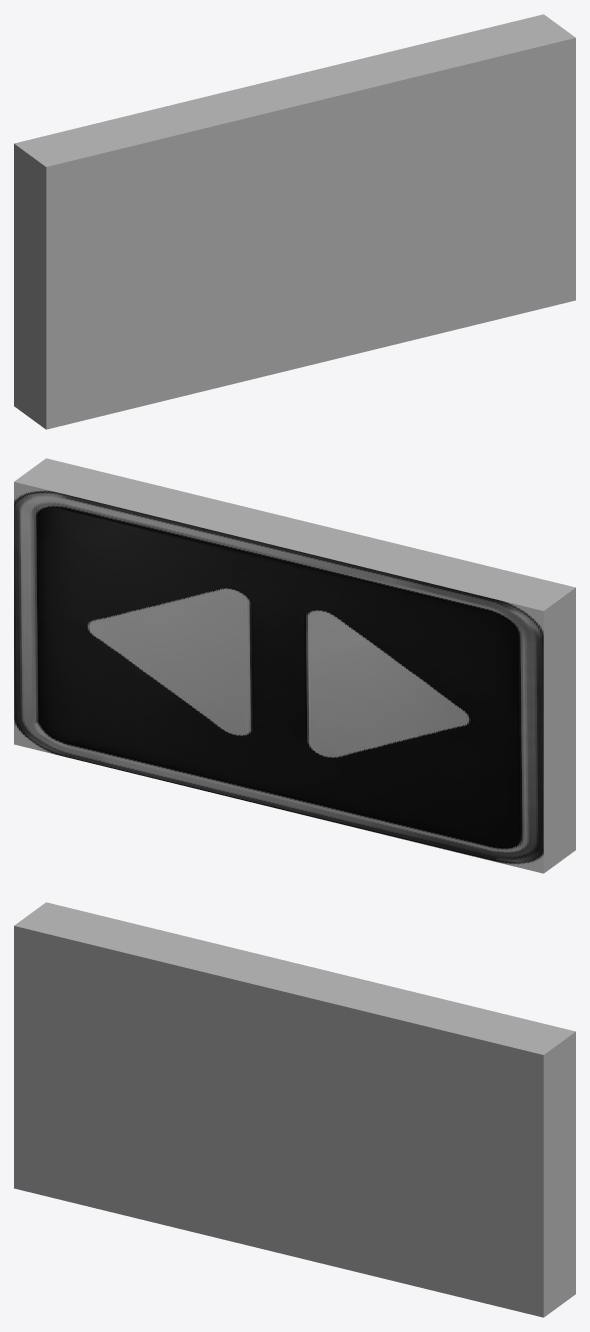
The model's file is open_button.dae.
The picture shows the model from 3 angles, top to bottom: view 1: azimuth 30°, elevation 25°; view 2: azimuth 150°, elevation 25°; view 3: azimuth 330°, elevation 25°; orthographic projection.
Visible parts, largest first — view 1: Cube_007; view 2: Cube_007; view 3: Cube_007.
Part boxes in pixels (<box>): Cube_007: <box>14,14,575,429</box>; Cube_007: <box>14,458,575,873</box>; Cube_007: <box>14,902,575,1317</box>.
Size of the model in its own units: 0.19 by 0.02 by 0.09.
2 materials, 1 textured.
